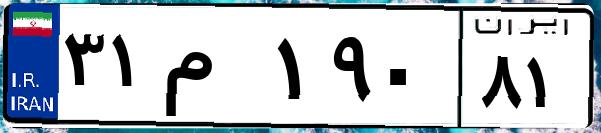0: (385, 28, 445, 110)
1: (270, 28, 330, 110), (525, 38, 570, 115), (110, 28, 158, 98)
3: (57, 26, 110, 100)
8: (475, 38, 525, 113)
9: (330, 28, 385, 110)
م: (158, 20, 270, 120)
